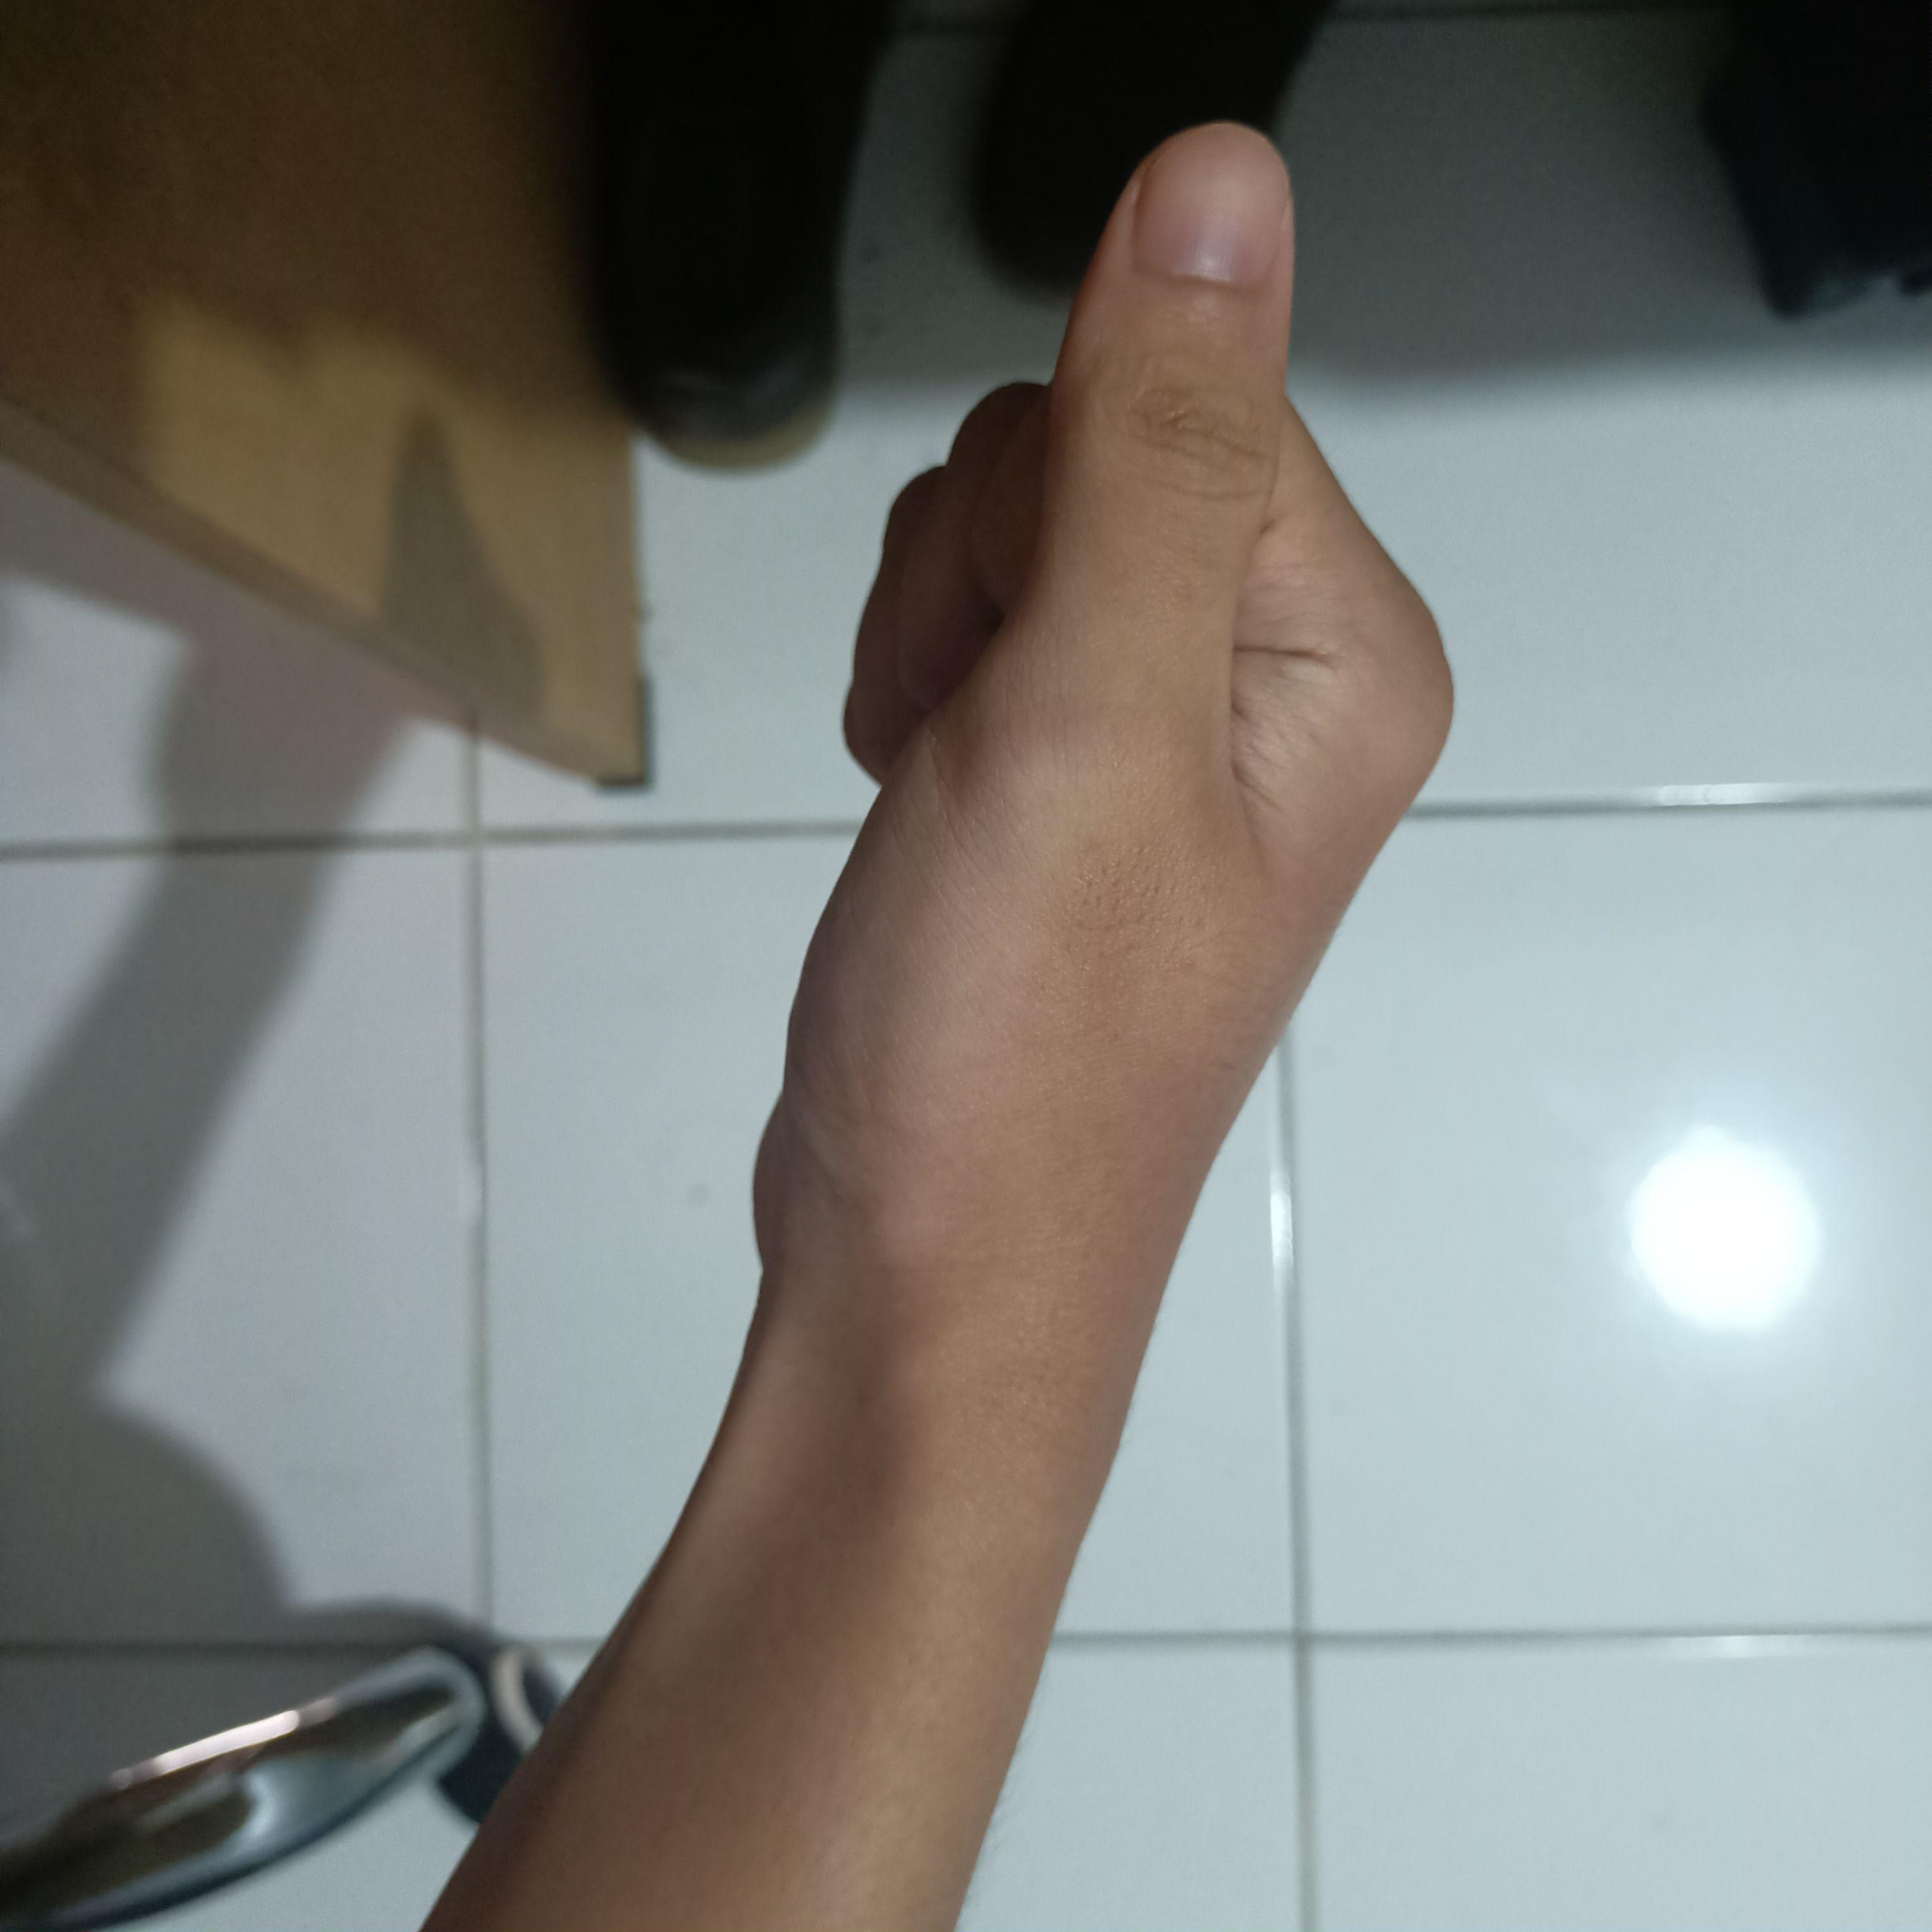rock: (738, 76, 1491, 1382)
